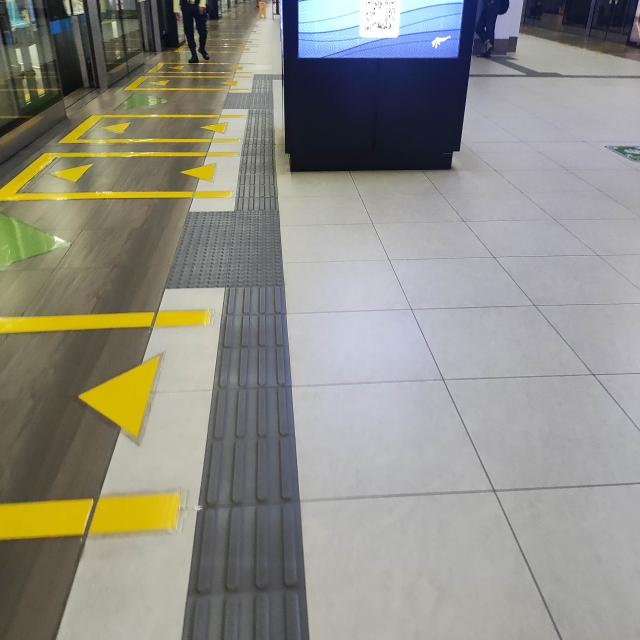lurus: (202, 280, 301, 640), (226, 111, 284, 217)
